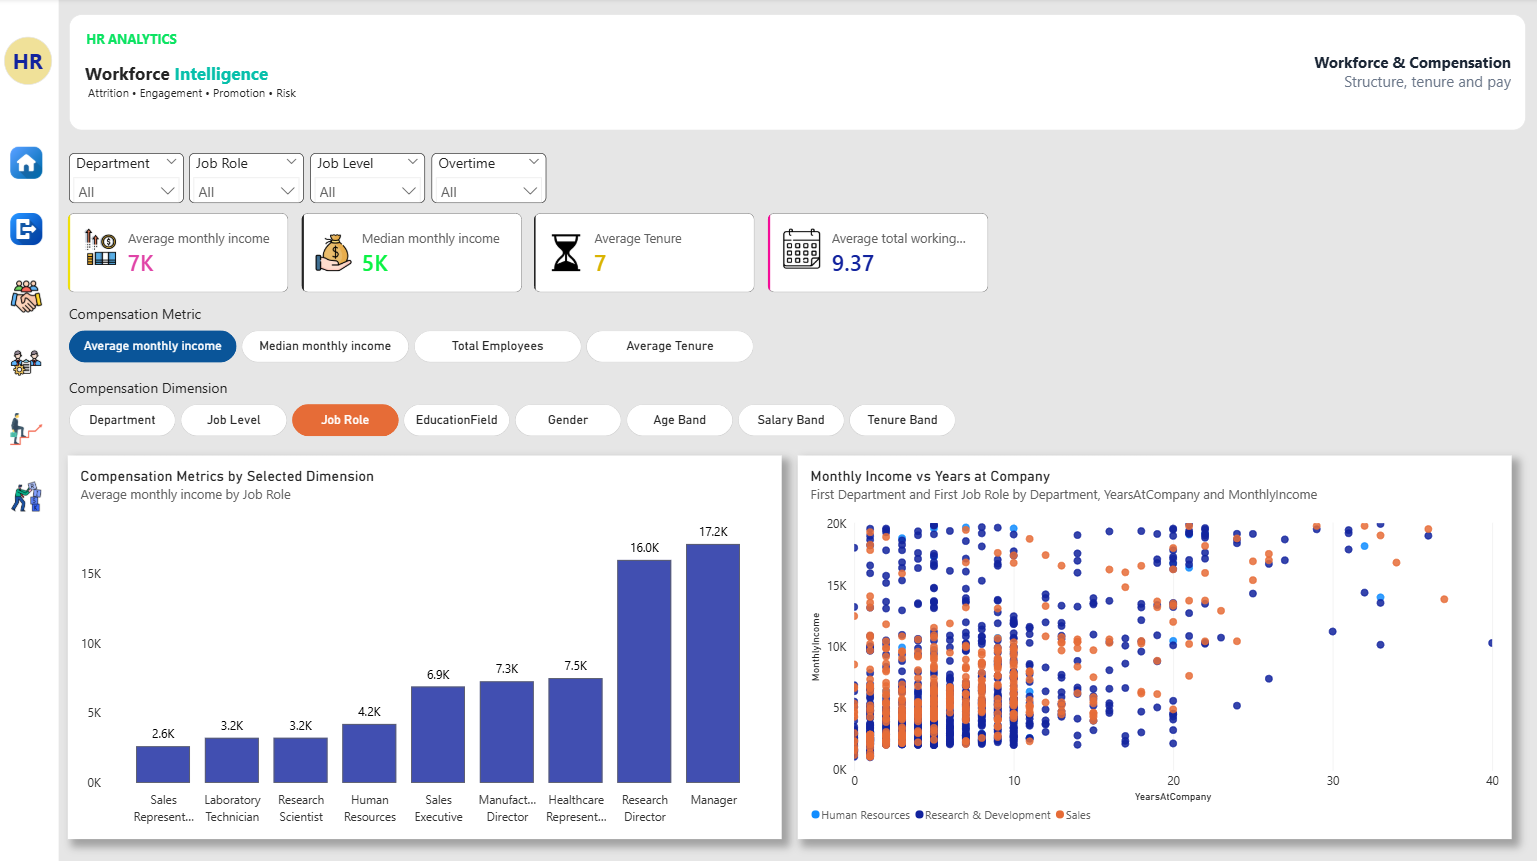

What the dashboard file says about the page in this screenshot:
{"tool":"powerbi","page":{"name":" Page 4","canvas":[1920,1080],"ordinal":4},"visuals":[{"type":"textbox","box":[0,0,74.1,1079.3],"z":0},{"type":"textbox","box":[86.7,20,1816.7,145],"z":1000},{"type":"textbox","box":[1631.7,48.3,253.3,91.7],"z":2000},{"type":"pageNavigator","box":[-0.7,122.1,74.6,50.7],"z":3000},{"type":"pageNavigator","box":[1.5,540.3,74.6,50.7],"z":4000},{"type":"pageNavigator","box":[0,456.7,74.6,50.7],"z":5000},{"type":"pageNavigator","box":[0,373,74.6,50.7],"z":6000},{"type":"pageNavigator","box":[1.5,289.4,74.6,50.7],"z":7000},{"type":"pageNavigator","box":[1.5,205.7,74.6,50.7],"z":8000},{"type":"slicer","fields":{"Values":["HR.Department"]},"box":[86.6,194,143.3,62.7],"z":9000},{"type":"slicer","fields":{"Values":["HR.JobRole"]},"box":[237.6,194,143.3,62.7],"z":10000},{"type":"slicer","fields":{"Values":["HR.JobLevel"]},"box":[388.7,194,143.3,62.7],"z":11000},{"type":"slicer","fields":{"Values":["HR.OverTime"]},"box":[539.7,194,143.3,62.7],"z":12000},{"type":"cardVisual","fields":{"Data":["#Measures.Average monthly income"]},"box":[86.6,267.2,197,83.6],"z":13000},{"type":"cardVisual","fields":{"Data":["#Measures.Average total working years"]},"box":[739.4,267.2,197,83.6],"z":14000},{"type":"cardVisual","fields":{"Data":["#Measures.Average Tenure"]},"box":[521.8,267.2,197,83.6],"z":15000},{"type":"cardVisual","fields":{"Data":["#Measures.Median monthly income"]},"box":[304.2,267.2,197,83.6],"z":16000},{"type":"clusteredColumnChart","title":"Headcount by Job Level","fields":{"Category":["HR.JobLevel"],"Y":["#Measures.total employees"]},"box":[86.6,380.6,537.3,268.7],"z":17000},{"type":"clusteredBarChart","title":"Headcount by Job Role","fields":{"Category":["HR.JobRole"],"Y":["#Measures.total employees"]},"box":[647.8,380.6,537.3,268.7],"z":18000},{"type":"clusteredColumnChart","title":"Salary Distribution","fields":{"Category":["HR.Salary Band"],"Y":["#Measures.total employees"]},"box":[1235.8,380.6,537.3,268.7],"z":19000},{"type":"clusteredColumnChart","title":"Tenure Distribution","fields":{"Category":["HR.Tenure Band"],"Y":["#Measures.total employees"]},"box":[86.6,710.4,537.3,268.7],"z":20000},{"type":"clusteredColumnChart","title":"Promotion by Job Level","fields":{"Category":["HR.JobLevel"],"Y":["#Measures.Promotion Due"]},"box":[647.8,710.4,537.3,268.7],"z":21000},{"type":"scatterChart","fields":{"Series":["HR.Attrition"],"X":["HR.TotalWorkingYears"],"Y":["#Measures.Average monthly income"]},"box":[1236.4,711.6,666.6,269.5],"z":22000}]}

Visuals, with their boxes in screenshot pixels (x1, y1, x2, y2), scaled from the page's 1920x1080 canvas onto the 1537x861 screenshot:
textbox: box(0, 0, 59, 860)
textbox: box(69, 16, 1524, 132)
textbox: box(1306, 39, 1509, 112)
pageNavigator: box(0, 97, 59, 138)
pageNavigator: box(1, 431, 61, 471)
pageNavigator: box(0, 364, 60, 405)
pageNavigator: box(0, 297, 60, 338)
pageNavigator: box(1, 231, 61, 271)
pageNavigator: box(1, 164, 61, 204)
slicer - HR.Department: box(69, 155, 184, 205)
slicer - HR.JobRole: box(190, 155, 305, 205)
slicer - HR.JobLevel: box(311, 155, 426, 205)
slicer - HR.OverTime: box(432, 155, 547, 205)
cardVisual - #Measures.Average monthly income: box(69, 213, 227, 280)
cardVisual - #Measures.Average total working years: box(592, 213, 750, 280)
cardVisual - #Measures.Average Tenure: box(418, 213, 575, 280)
cardVisual - #Measures.Median monthly income: box(244, 213, 401, 280)
"Headcount by Job Level" clusteredColumnChart: box(69, 303, 499, 518)
"Headcount by Job Role" clusteredBarChart: box(519, 303, 949, 518)
"Salary Distribution" clusteredColumnChart: box(989, 303, 1419, 518)
"Tenure Distribution" clusteredColumnChart: box(69, 566, 499, 781)
"Promotion by Job Level" clusteredColumnChart: box(519, 566, 949, 781)
scatterChart - HR.Attrition x HR.TotalWorkingYears: box(990, 567, 1523, 782)
